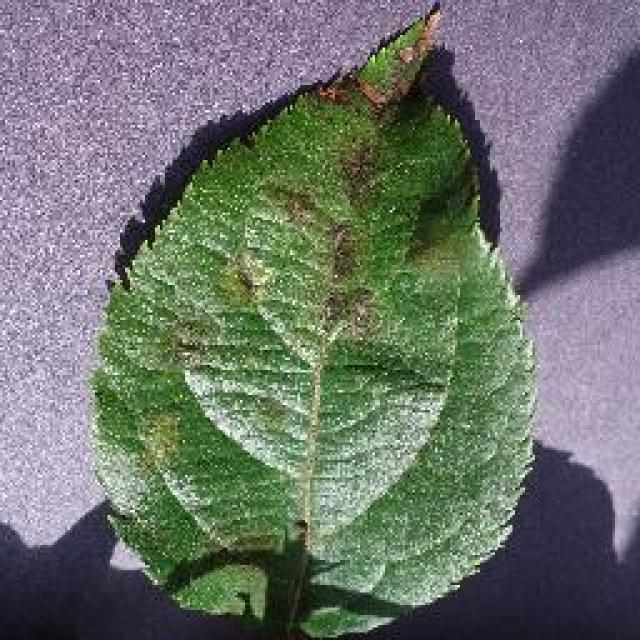apple scab disease: (85, 0, 540, 638)
